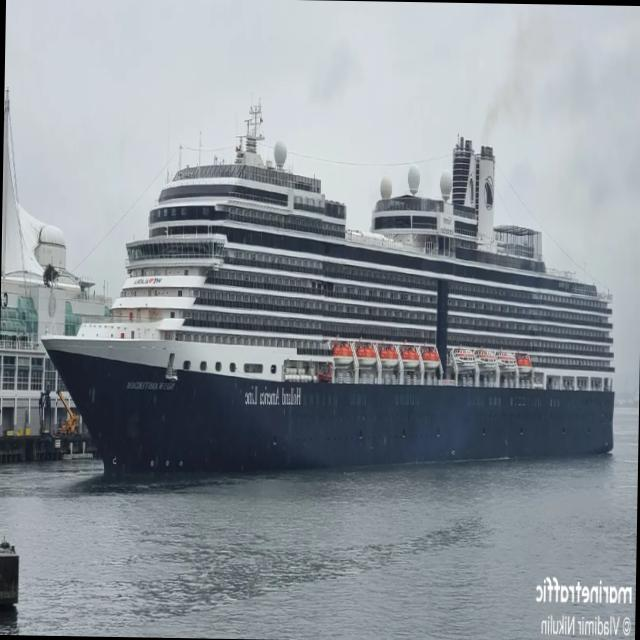Cruise: (41, 106, 614, 476)
